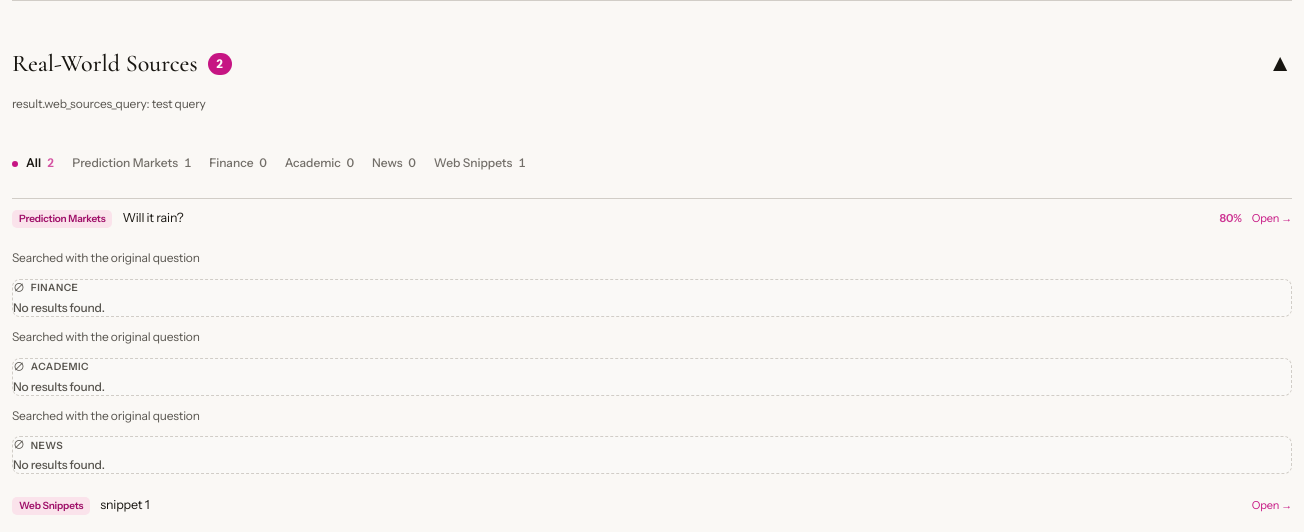
Test case: UnifiedSourceFeed › filters rows when a chip is clicked
Expected: the text "Will it rain?" is shown, [122, 210, 183, 225]
Expected: the text "snippet 1" is shown, [100, 497, 150, 512]
Click on Polymarket chip
Click the button "Prediction Markets 1" at (132, 164), box [72, 153, 191, 174]
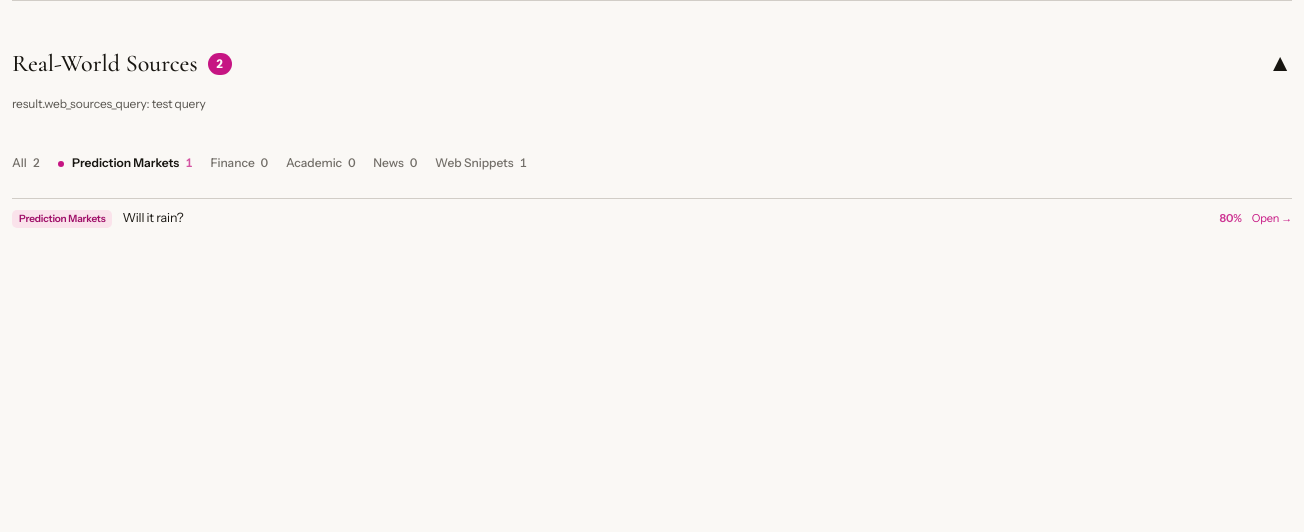
Expected: the text "Will it rain?" is shown, [122, 210, 183, 225]
Expected: the text "snippet 1" is gone
